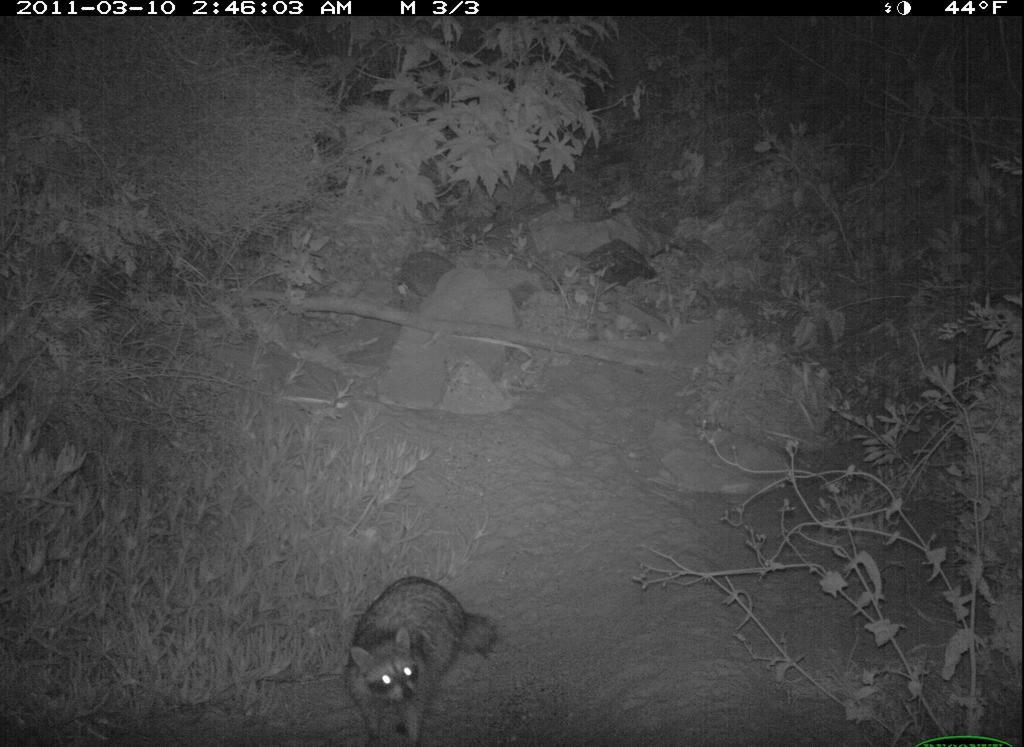raccoon: (328, 553, 511, 747)
